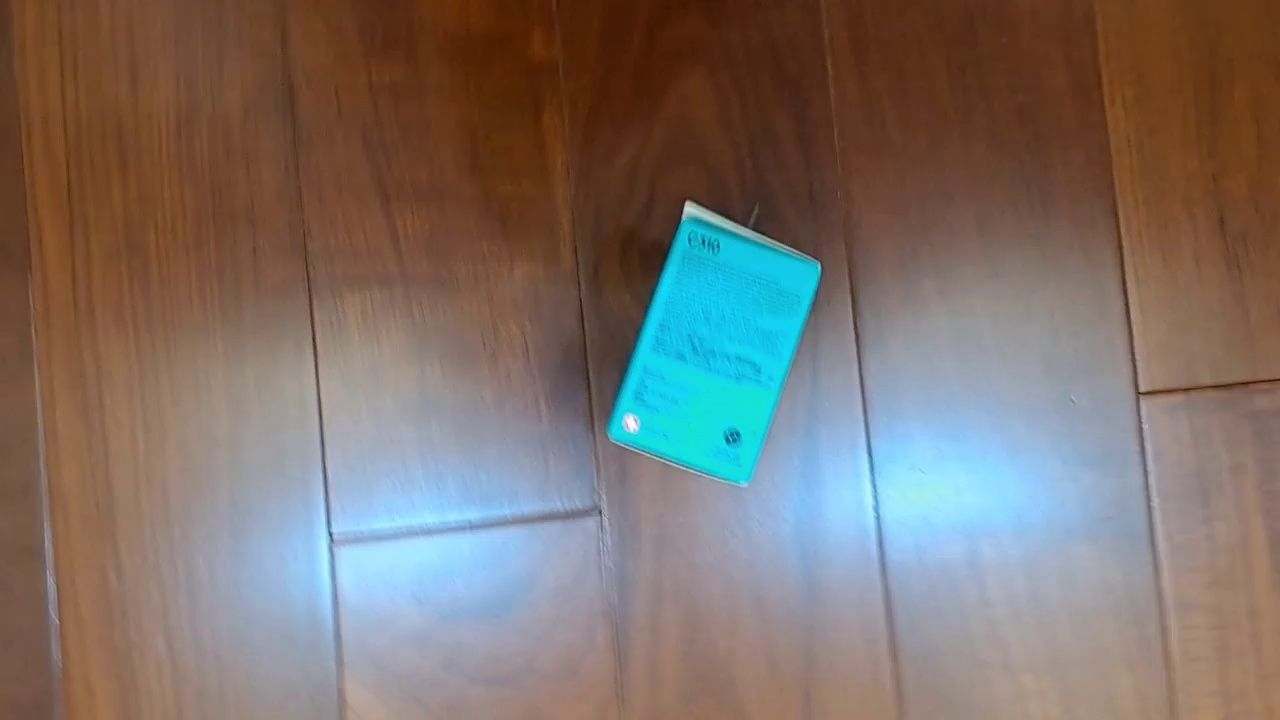webcam: (604, 197, 823, 487)
